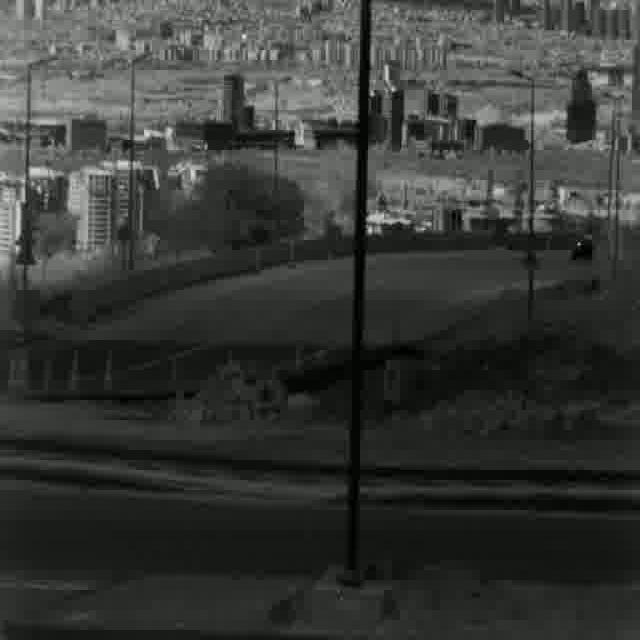Motorcycle: (569, 235, 600, 264)
